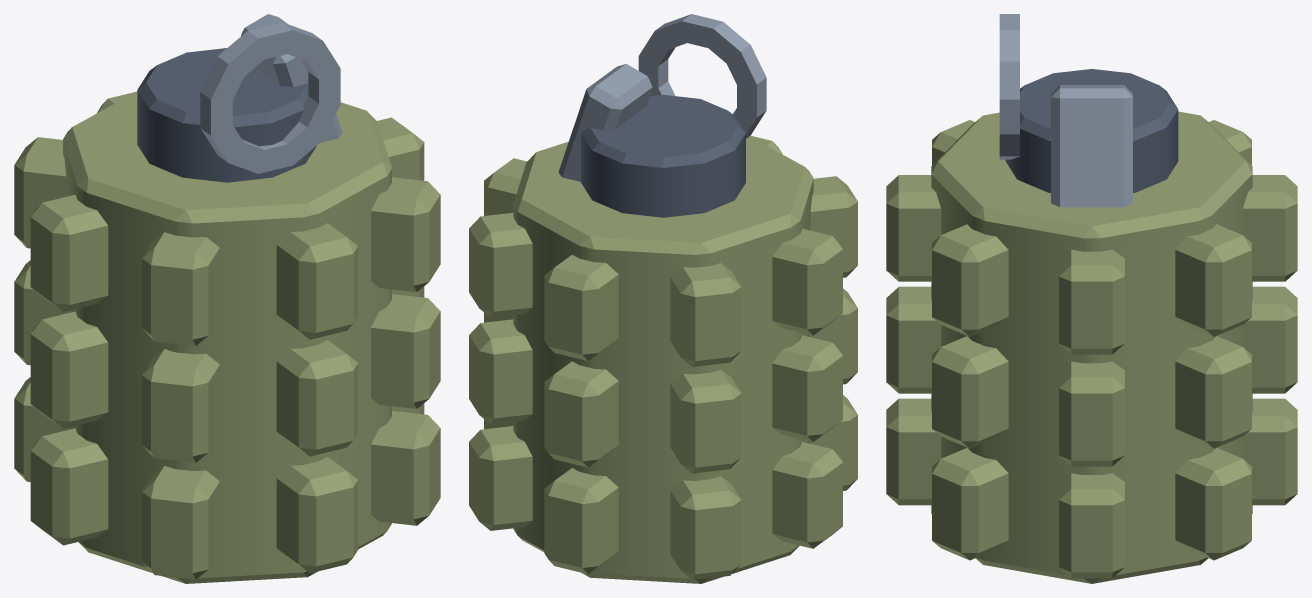
Rendered from Throwable_Grenade_v003.fbx.
3 renders of one model, left to right at view 1: azimuth 30°, elevation 25°; view 2: azimuth 150°, elevation 25°; view 3: azimuth 270°, elevation 25°, orthographic. The views are drawn at different scales.
Parts seen in each view (by area): view 1: Throwable_Grenade__RECEIVER_MESH; view 2: Throwable_Grenade__RECEIVER_MESH; view 3: Throwable_Grenade__RECEIVER_MESH.
Boxes of the visible parts, x1,y1,x2,y2 form: Throwable_Grenade__RECEIVER_MESH: (14,14,440,583); Throwable_Grenade__RECEIVER_MESH: (469,14,857,583); Throwable_Grenade__RECEIVER_MESH: (886,14,1297,583).
Size of the model in its own units: 0.5 by 0.6669 by 0.5.
